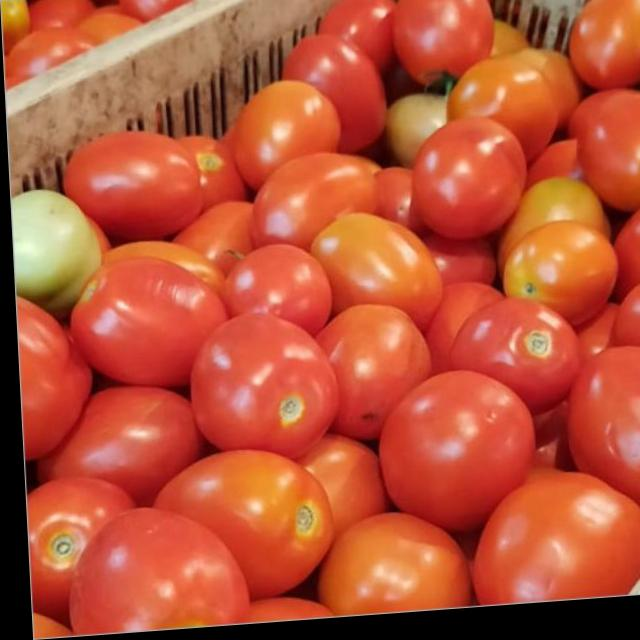sari: (160, 205, 550, 581)
